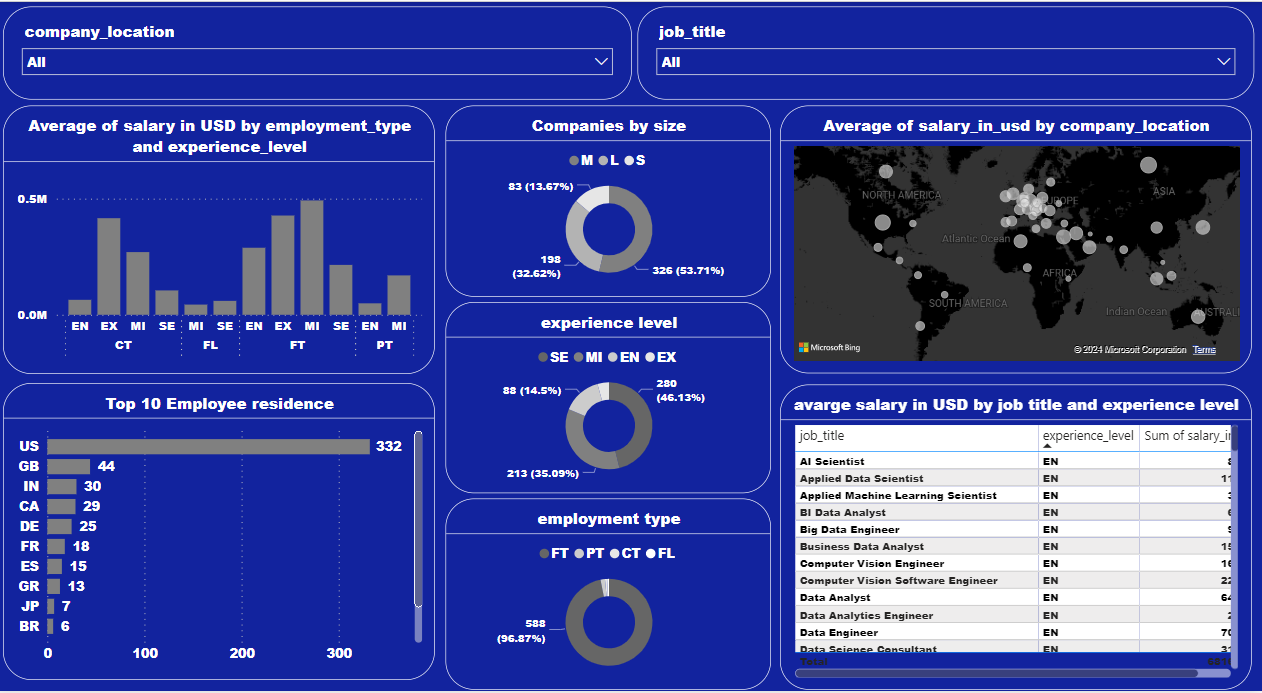

What the dashboard file says about the page in this screenshot:
{"tool":"powerbi","page":{"name":"Page 1","canvas":[1335,725],"ordinal":0},"visuals":[{"type":"slicer","fields":{"Values":["ds_salaries.company_location"]},"box":[9.5,4.7,661.7,97.9],"z":0},{"type":"slicer","fields":{"Values":["ds_salaries.job_title"]},"box":[676.8,4.7,649.1,97.9],"z":1000},{"type":"clusteredColumnChart","title":"Average of salary in USD by employment_type and experience_level","fields":{"Y":["Avg(ds_salaries.salary)"],"Category":["ds_salaries.employment_type","ds_salaries.experience_level"]},"box":[9.5,109,454.8,282.7],"z":2000},{"type":"clusteredBarChart","title":"Top 10 Employee residence","fields":{"Category":["ds_salaries.employee_residence"],"Y":["CountNonNull(ds_salaries.employee_residence)"]},"box":[9.5,401.1,454.8,312.7],"z":3000},{"type":"map","fields":{"Category":["ds_salaries.company_location"],"Size":["Avg(ds_salaries.salary_in_usd)"]},"box":[827.8,108.4,496.7,281.9],"z":4000},{"type":"donutChart","title":"Companies by size","fields":{"Category":["ds_salaries.company_size"],"Y":["CountNonNull(ds_salaries.company_size)"]},"box":[475,108.4,343,201],"z":5000},{"type":"donutChart","title":"experience level ","fields":{"Category":["ds_salaries.experience_level"],"Y":["CountNonNull(ds_salaries.experience_level)"]},"box":[475,315.4,343,201],"z":6000},{"type":"donutChart","title":"employment type","fields":{"Category":["ds_salaries.employment_type"],"Y":["CountNonNull(ds_salaries.employment_type)"]},"box":[475,522.3,343,201],"z":7000},{"type":"tableEx","title":"avarge salary in USD by job title and experience level","fields":{"Values":["ds_salaries.job_title","ds_salaries.experience_level","Sum(ds_salaries.salary_in_usd)"]},"box":[827.8,402.1,496.7,321.3],"z":8000}]}

Visuals, with their boxes in screenshot pixels (x1, y1, x2, y2), scaled from the page's 1335x725 canvas onto the 1262x693 screenshot:
slicer - ds_salaries.company_location: [9, 4, 634, 98]
slicer - ds_salaries.job_title: [640, 4, 1253, 98]
"Average of salary in USD by employment_type and experience_level" clusteredColumnChart: [9, 104, 439, 374]
"Top 10 Employee residence" clusteredBarChart: [9, 383, 439, 682]
map - ds_salaries.company_location x Avg(ds_salaries.salary_in_usd): [783, 104, 1252, 373]
"Companies by size" donutChart: [449, 104, 773, 296]
"experience level " donutChart: [449, 301, 773, 494]
"employment type" donutChart: [449, 499, 773, 691]
"avarge salary in USD by job title and experience level" tableEx: [783, 384, 1252, 691]
